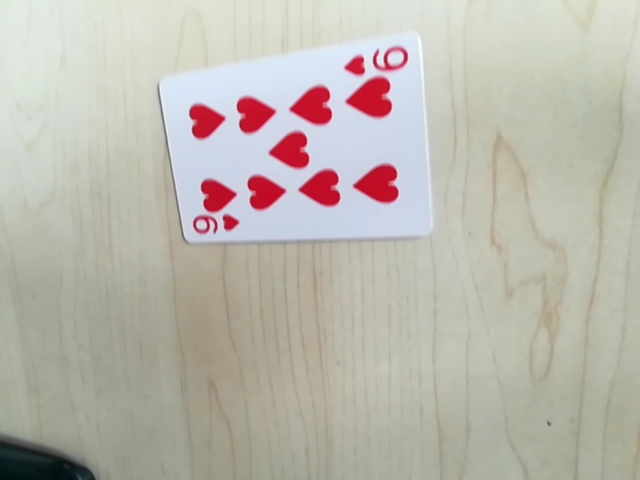hx 9: (343, 39, 410, 79), (188, 211, 241, 240)
